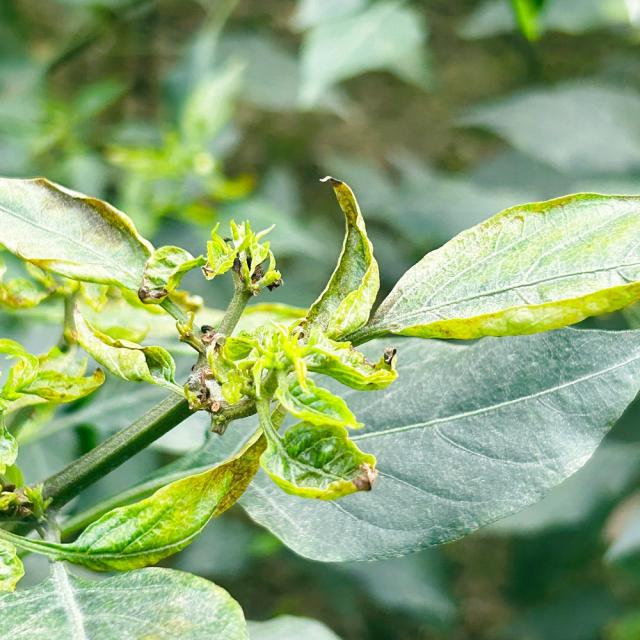Chilli_Leaf_Curl: (1, 170, 638, 610), (232, 323, 638, 564), (345, 190, 639, 346), (0, 422, 268, 592), (0, 560, 250, 639), (0, 174, 158, 295), (300, 174, 380, 341), (69, 302, 187, 399), (200, 218, 283, 296)
